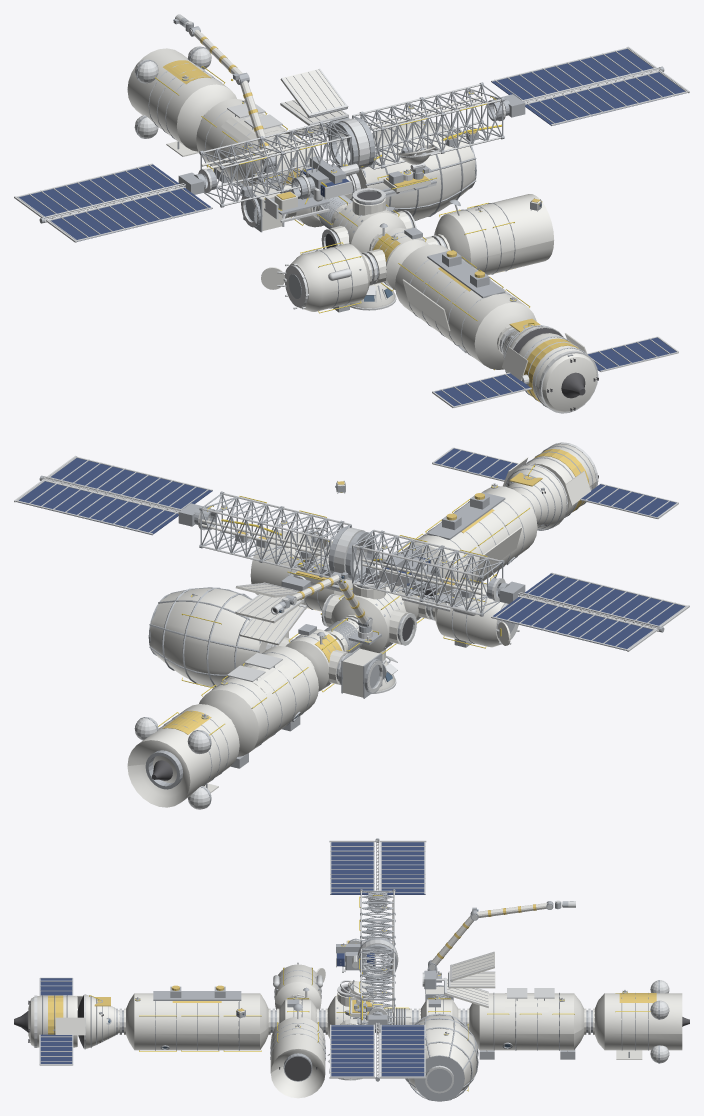
Rendered from orbital-station-starter.glb.
3 views of the same model, one above another, from view 1: azimuth 30°, elevation 25°; view 2: azimuth 150°, elevation 25°; view 3: azimuth 270°, elevation 25° (orthographic). The views are drawn at different scales.
Visible parts, largest first — view 1: 002-laboratory-module/0, 016-solar-array-wing-deployed/3, 019-solar-array-wing-deployed/3, 004-logistics-module/0, 009-service-module-tankage/0, 010-inflatable-habitat/0, 003-crew-ferry-capsule/0, 008-habitation-module/0, 005-airlock-module/0, 019-solar-array-wing-deployed/1, 016-solar-array-wing-deployed/1, 003-crew-ferry-capsule/6 (+21 smaller); view 2: 010-inflatable-habitat/0, 016-solar-array-wing-deployed/3, 019-solar-array-wing-deployed/3, 008-habitation-module/0, 009-service-module-tankage/0, 002-laboratory-module/0, 003-crew-ferry-capsule/0, 019-solar-array-wing-deployed/1, 016-solar-array-wing-deployed/1, 000-hub-six-port/0, 003-crew-ferry-capsule/6, 015-truss-bay-segment-utility/1 (+24 smaller); view 3: 002-laboratory-module/0, 008-habitation-module/0, 009-service-module-tankage/0, 016-solar-array-wing-deployed/3, 019-solar-array-wing-deployed/3, 004-logistics-module/0, 003-crew-ferry-capsule/0, 010-inflatable-habitat/1, 016-solar-array-wing-deployed/1, 019-solar-array-wing-deployed/1, 010-inflatable-habitat/0, 003-crew-ferry-capsule/6 (+23 smaller).
Boxes of the visible parts, x1=… form: 002-laboratory-module/0: x1=395, y1=244, x2=536, y2=369; 016-solar-array-wing-deployed/3: x1=492, y1=49, x2=685, y2=125; 019-solar-array-wing-deployed/3: x1=19, y1=164, x2=212, y2=241; 004-logistics-module/0: x1=434, y1=194, x2=554, y2=275; 009-service-module-tankage/0: x1=127, y1=48, x2=236, y2=156; 010-inflatable-habitat/0: x1=356, y1=122, x2=475, y2=220; 003-crew-ferry-capsule/0: x1=502, y1=326, x2=596, y2=412; 008-habitation-module/0: x1=196, y1=98, x2=315, y2=186; 005-airlock-module/0: x1=289, y1=244, x2=372, y2=311; 019-solar-array-wing-deployed/1: x1=14, y1=163, x2=212, y2=242; 016-solar-array-wing-deployed/1: x1=491, y1=46, x2=689, y2=125; 003-crew-ferry-capsule/6: x1=435, y1=337, x2=676, y2=406; 010-inflatable-habitat/0: x1=150, y1=588, x2=288, y2=687; 016-solar-array-wing-deployed/3: x1=18, y1=458, x2=212, y2=535; 019-solar-array-wing-deployed/3: x1=492, y1=573, x2=684, y2=650; 008-habitation-module/0: x1=199, y1=646, x2=318, y2=756; 009-service-module-tankage/0: x1=127, y1=704, x2=239, y2=807; 002-laboratory-module/0: x1=400, y1=486, x2=537, y2=583; 003-crew-ferry-capsule/0: x1=503, y1=444, x2=596, y2=529; 019-solar-array-wing-deployed/1: x1=491, y1=572, x2=689, y2=651; 016-solar-array-wing-deployed/1: x1=14, y1=455, x2=212, y2=534; 000-hub-six-port/0: x1=325, y1=583, x2=409, y2=661; 003-crew-ferry-capsule/6: x1=434, y1=448, x2=676, y2=517; 015-truss-bay-segment-utility/1: x1=199, y1=491, x2=284, y2=562; 002-laboratory-module/0: x1=124, y1=993, x2=270, y2=1050; 008-habitation-module/0: x1=467, y1=993, x2=586, y2=1050; 009-service-module-tankage/0: x1=593, y1=993, x2=682, y2=1059; 016-solar-array-wing-deployed/3: x1=331, y1=1025, x2=424, y2=1076; 019-solar-array-wing-deployed/3: x1=330, y1=842, x2=425, y2=894; 004-logistics-module/0: x1=270, y1=1017, x2=325, y2=1098; 003-crew-ferry-capsule/0: x1=28, y1=994, x2=119, y2=1048; 010-inflatable-habitat/1: x1=405, y1=1013, x2=478, y2=1101; 016-solar-array-wing-deployed/1: x1=329, y1=1007, x2=426, y2=1078; 019-solar-array-wing-deployed/1: x1=329, y1=839, x2=426, y2=909; 010-inflatable-habitat/0: x1=407, y1=1015, x2=477, y2=1097; 003-crew-ferry-capsule/6: x1=40, y1=978, x2=72, y2=1063.
Size of the model in its own units: 41.5 by 12.34 by 49.49.
